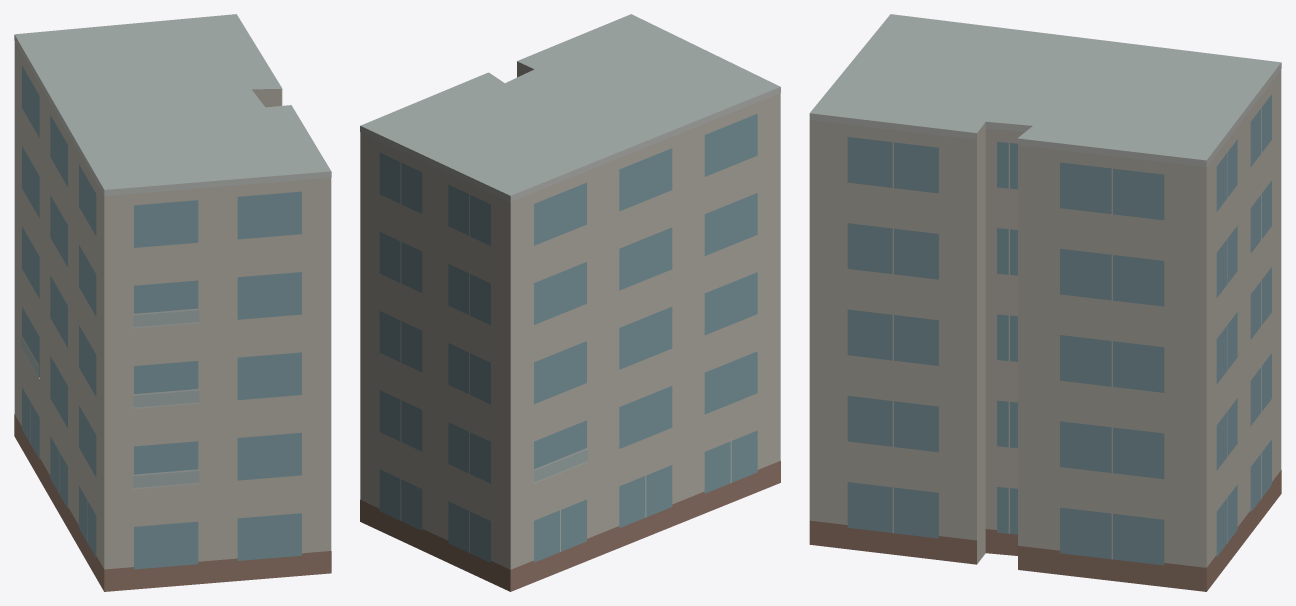
File: survey-upis-33038547.glb
3 renders of one model, left to right at view 1: azimuth 30°, elevation 25°; view 2: azimuth 150°, elevation 25°; view 3: azimuth 270°, elevation 25°, orthographic. The views are drawn at different scales.
Visible parts, largest first — view 1: survey-upis-33038547.tmp; view 2: survey-upis-33038547.tmp; view 3: survey-upis-33038547.tmp.
Boxes of the visible parts, <box> form: survey-upis-33038547.tmp: <box>14,14,331,591</box>; survey-upis-33038547.tmp: <box>360,14,780,591</box>; survey-upis-33038547.tmp: <box>809,14,1281,591</box>.
Size of the model in its own units: 11.46 by 15.73 by 15.6.
